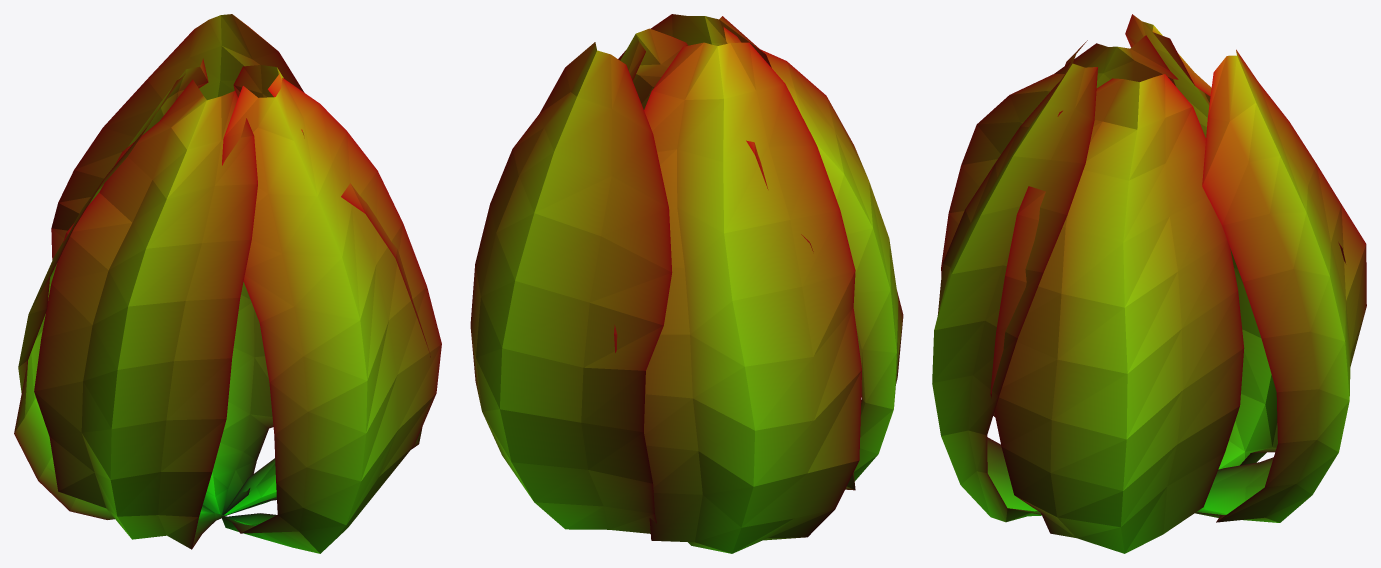
The model's file is Orchid_mesh.fbx.
The picture shows the model from 3 angles, left to right: view 1: azimuth 30°, elevation 25°; view 2: azimuth 150°, elevation 25°; view 3: azimuth 270°, elevation 25°; orthographic projection. The views are drawn at different scales.
Visible parts, largest first — view 1: MESH; view 2: MESH; view 3: MESH.
Boxes of the visible parts, bbox=[...] form: MESH: bbox=[14, 14, 441, 553]; MESH: bbox=[470, 14, 903, 553]; MESH: bbox=[932, 14, 1366, 553].
Size of the model in its own units: 16.47 by 20.18 by 16.34.
